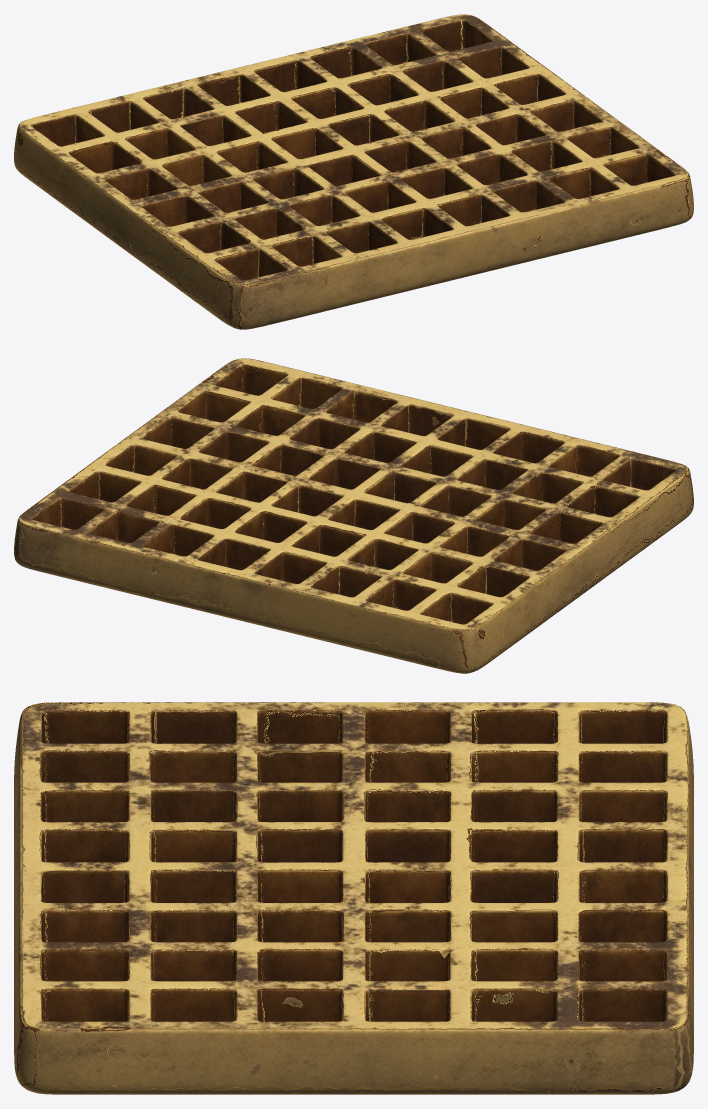
3 views of the same model, one above another, from view 1: azimuth 30°, elevation 25°; view 2: azimuth 150°, elevation 25°; view 3: azimuth 270°, elevation 25° (orthographic). The views are drawn at different scales.
Bounding box in the file's own units: 1.56 × 0.1512 × 1.34.
1 material, 1 textured.
